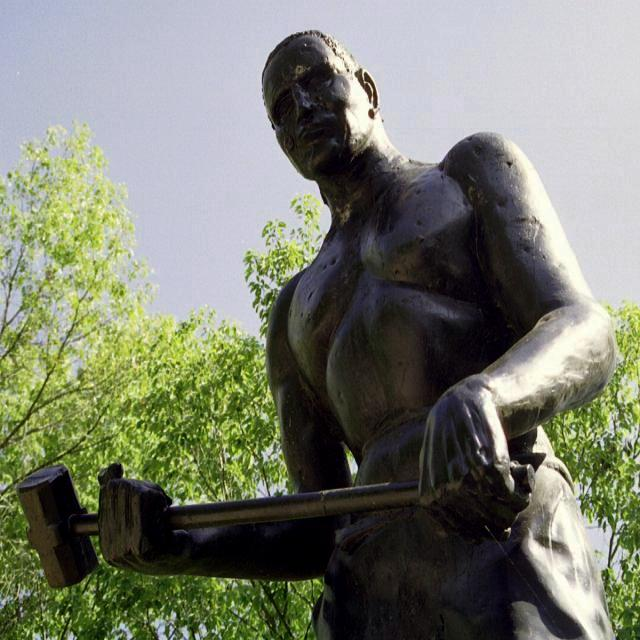hammer: (13, 449, 549, 593)
